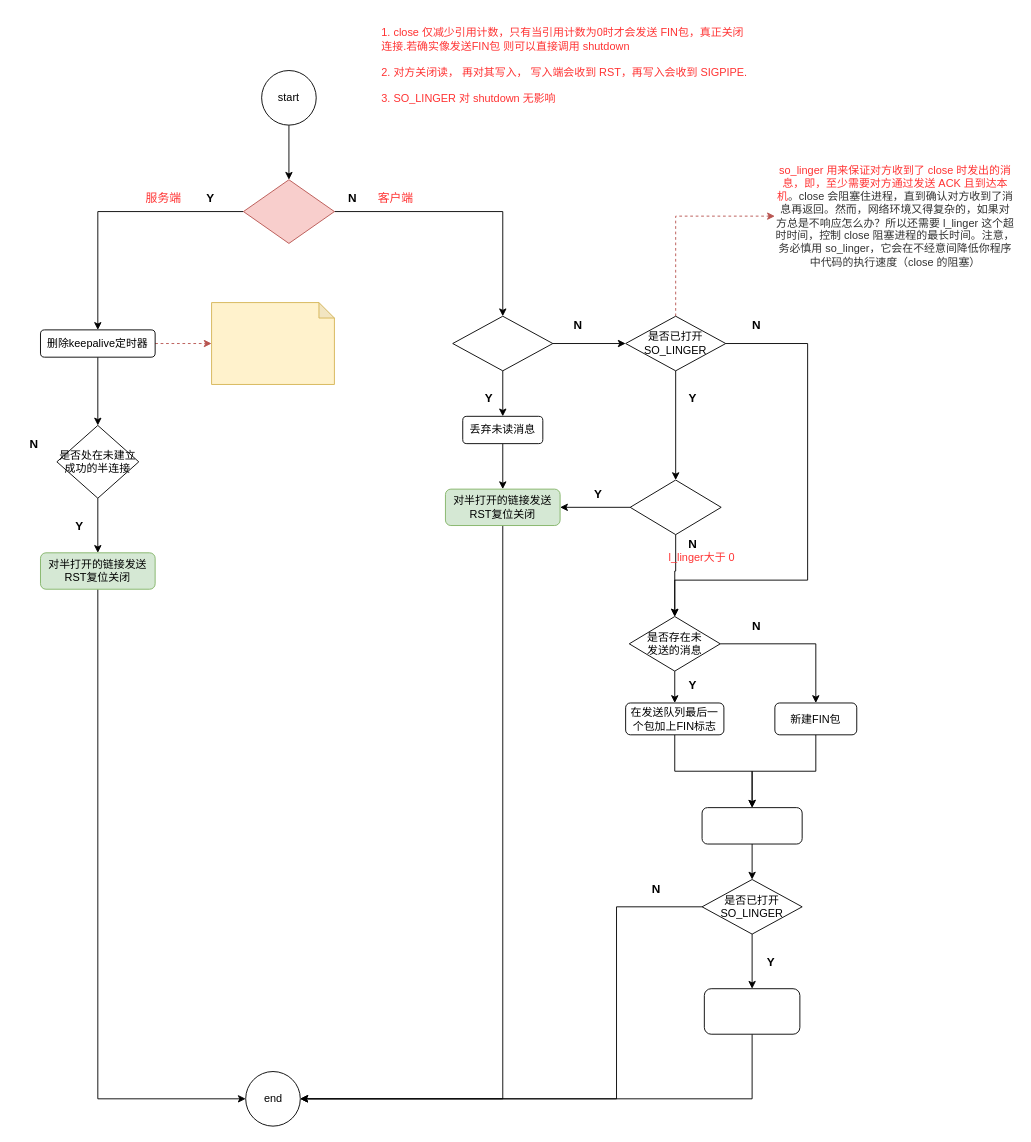
Image size: 1031x1142. Some labels were removed from this diagram. Here are the shapes that lost their labels. From the top down, the centre of each, then its label:
At point 288,211: "当前socket 是否为服务端".
At point 272,343: "keepalive 功能常用于服务器上，防止僵死、异常退出的客户端占用服务器连接资源".
At point 502,343: "检查连接是否 有未读消息".
At point 675,507: "l_linger 参数 是否为0".
At point 751,825: "取消angle算法，一次性将所有包发出".
At point 751,1011: "等待对端确认收到FIN包或 l_linger 超时时间到达".
